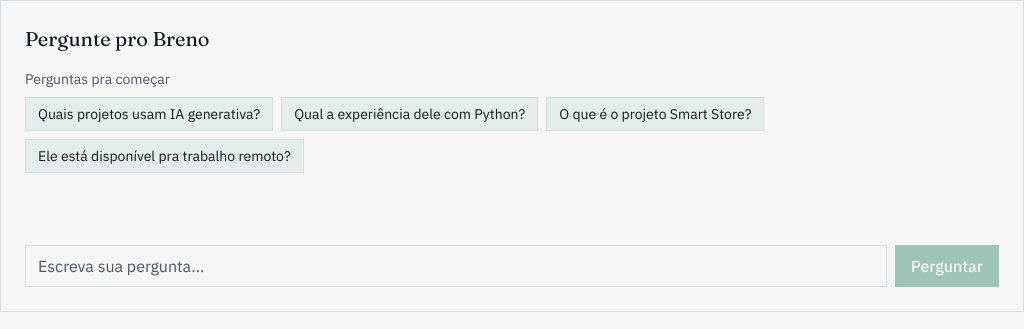
Test: Chat › sends the clicked suggested question to /api/chat with the fixed agent slug
Click the button "Qual a experiência dele com Python?" at (410, 114), box left=281, top=97, right=538, bottom=131
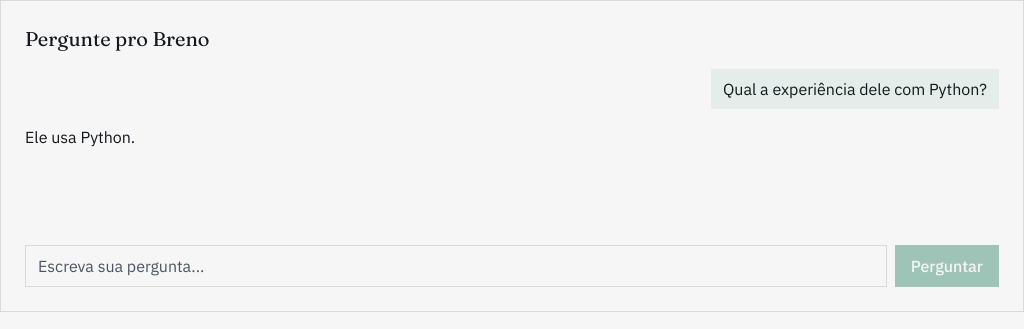
Result: the text "Ele usa Python." is shown at left=25, top=127, right=135, bottom=147
